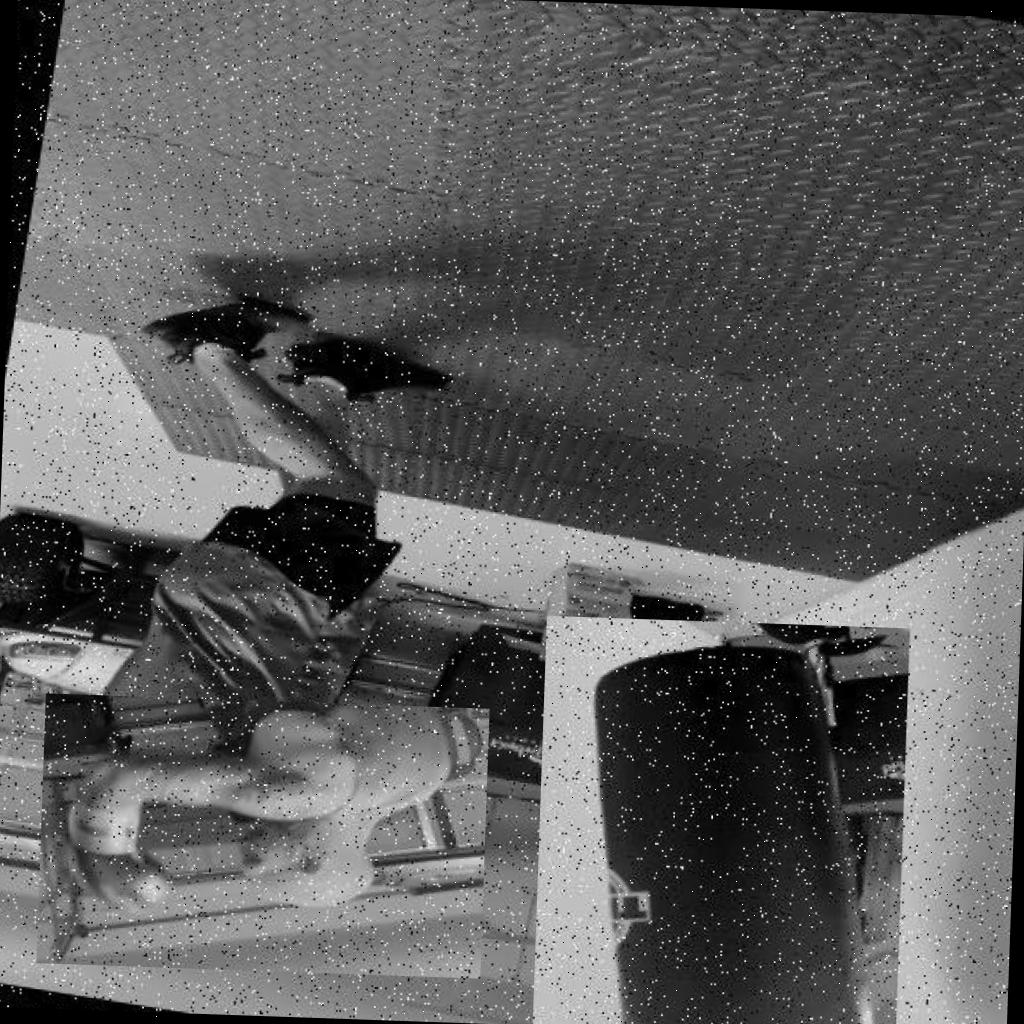bag: (532, 615, 909, 1024)
uppercut: (36, 693, 489, 978)
